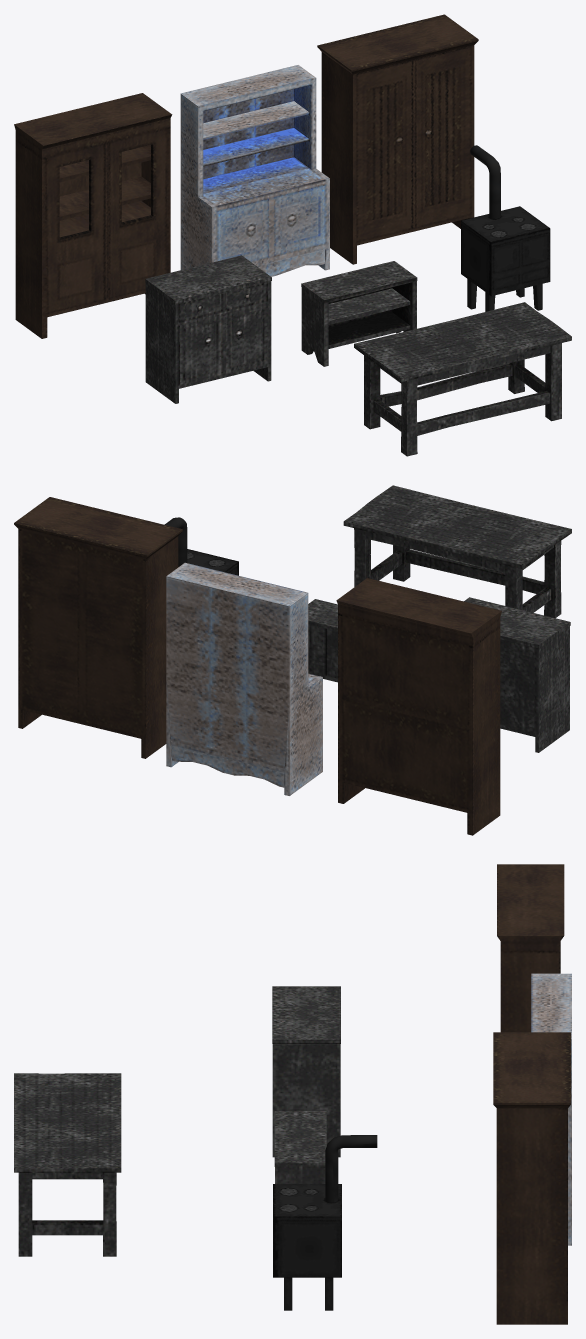
The model's file is old_lowpoly_furniture.glb.
3 renders of one model, top to bottom at view 1: azimuth 30°, elevation 25°; view 2: azimuth 150°, elevation 25°; view 3: azimuth 270°, elevation 25°, orthographic. The views are drawn at different scales.
Parts seen in each view (by area): view 1: old_Wardrobe, old_Bookcase, Kitchen_Cabinet, rustic_Wood_Table, small_Dresser, small_Bookshelf, antique_iron_stove, antique_iron_stove_chimney; view 2: old_Bookcase, old_Wardrobe, Kitchen_Cabinet, rustic_Wood_Table, small_Dresser, small_Bookshelf, antique_iron_stove, antique_iron_stove_chimney; view 3: old_Wardrobe, rustic_Wood_Table, small_Dresser, old_Bookcase, antique_iron_stove, small_Bookshelf, Kitchen_Cabinet, antique_iron_stove_chimney.
Part boxes in pixels (box(x1,y1,x2,y2)): old_Wardrobe: box(317, 14, 478, 264); old_Bookcase: box(14, 93, 172, 338); Kitchen_Cabinet: box(180, 65, 329, 276); rustic_Wood_Table: box(354, 302, 571, 456); small_Dresser: box(145, 255, 271, 403); small_Bookshelf: box(301, 261, 417, 366); antique_iron_stove: box(461, 206, 550, 311); antique_iron_stove_chimney: box(470, 145, 500, 218); old_Bookcase: box(336, 578, 501, 835); old_Wardrobe: box(14, 497, 182, 758); Kitchen_Cabinet: box(166, 562, 322, 795); rustic_Wood_Table: box(343, 485, 571, 618); small_Dresser: box(464, 597, 570, 752); small_Bookshelf: box(308, 599, 337, 682); antique_iron_stove: box(187, 549, 238, 575); antique_iron_stove_chimney: box(164, 517, 187, 566); old_Wardrobe: box(493, 1032, 570, 1324); rustic_Wood_Table: box(14, 1073, 121, 1256); small_Dresser: box(272, 986, 340, 1157); old_Bookcase: box(497, 864, 564, 1032); antique_iron_stove: box(273, 1184, 341, 1310); small_Bookshelf: box(274, 1111, 326, 1183); Kitchen_Cabinet: box(531, 973, 571, 1245); antique_iron_stove_chimney: box(325, 1135, 377, 1202).
Bounding box in the file's own units: 5.02 × 2.17 × 4.91.
2 materials, 2 textured.
